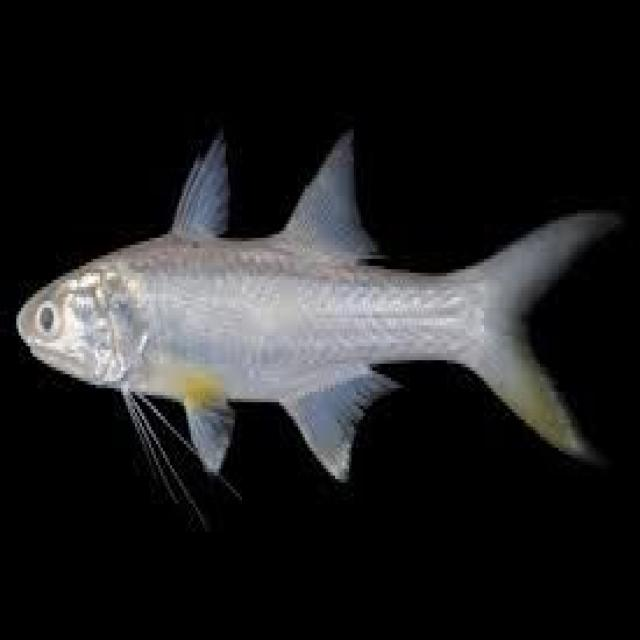Fourfinger-Threadfin: (6, 115, 640, 513)
